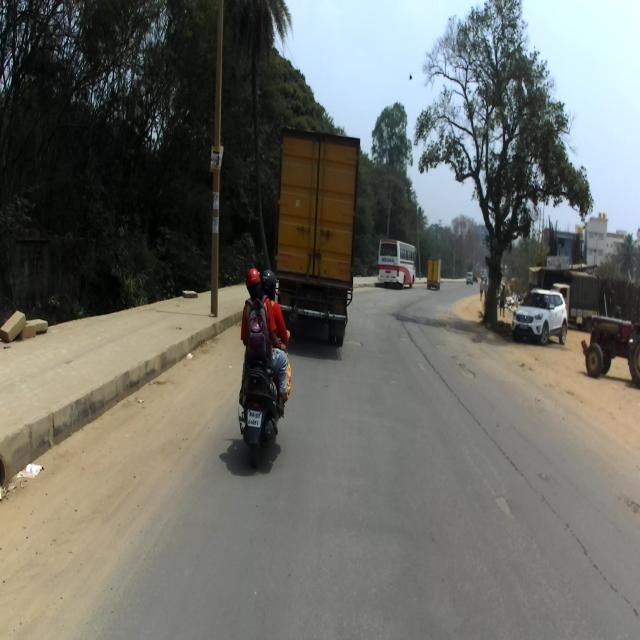car ahead at: (514, 285, 568, 348)
electric pole ahead at: (209, 3, 228, 315)
motorcycle ahead at: (239, 351, 294, 458)
truck ahead at: (276, 129, 352, 343)
